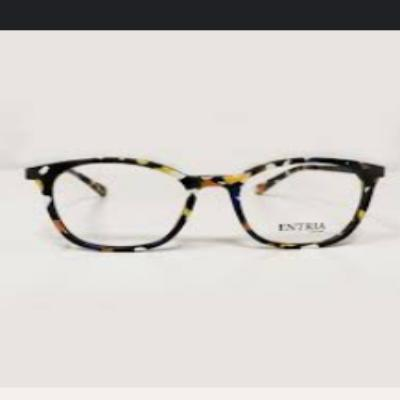glasses: (18, 150, 394, 260)
